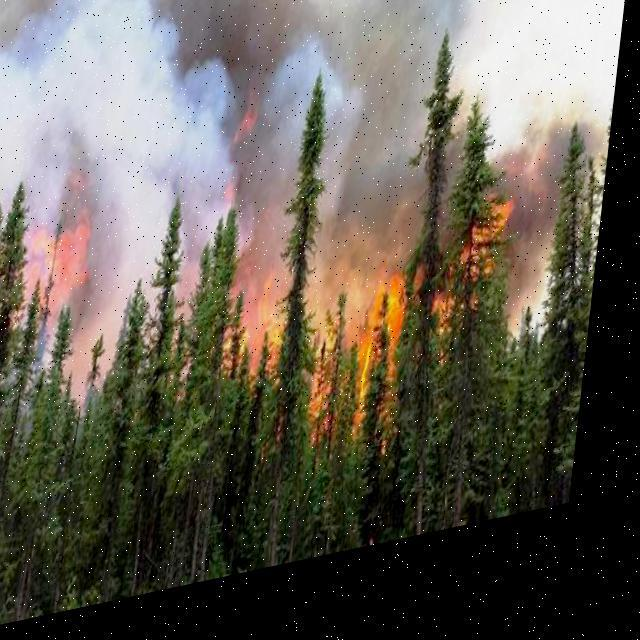Fire: (0, 0, 553, 571)
